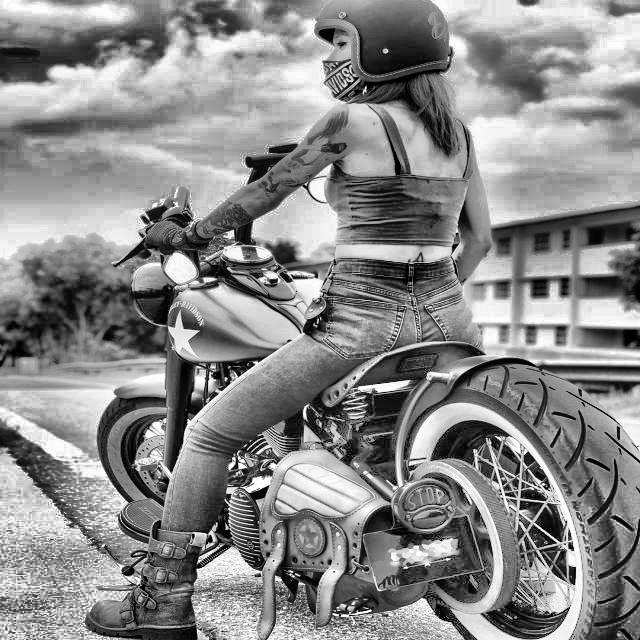Helmet: (307, 0, 468, 111)
